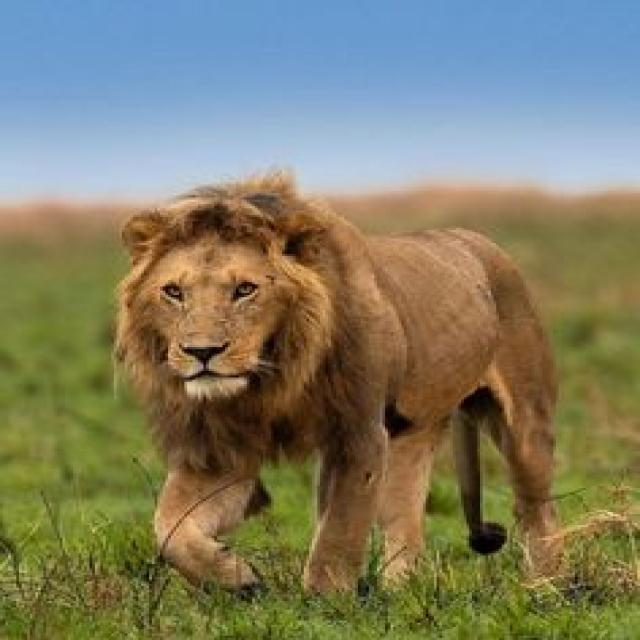lions: (93, 133, 640, 639)
